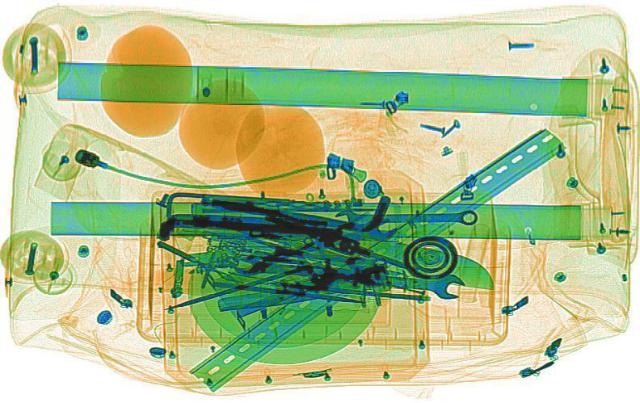Knife: (187, 194, 509, 291)
